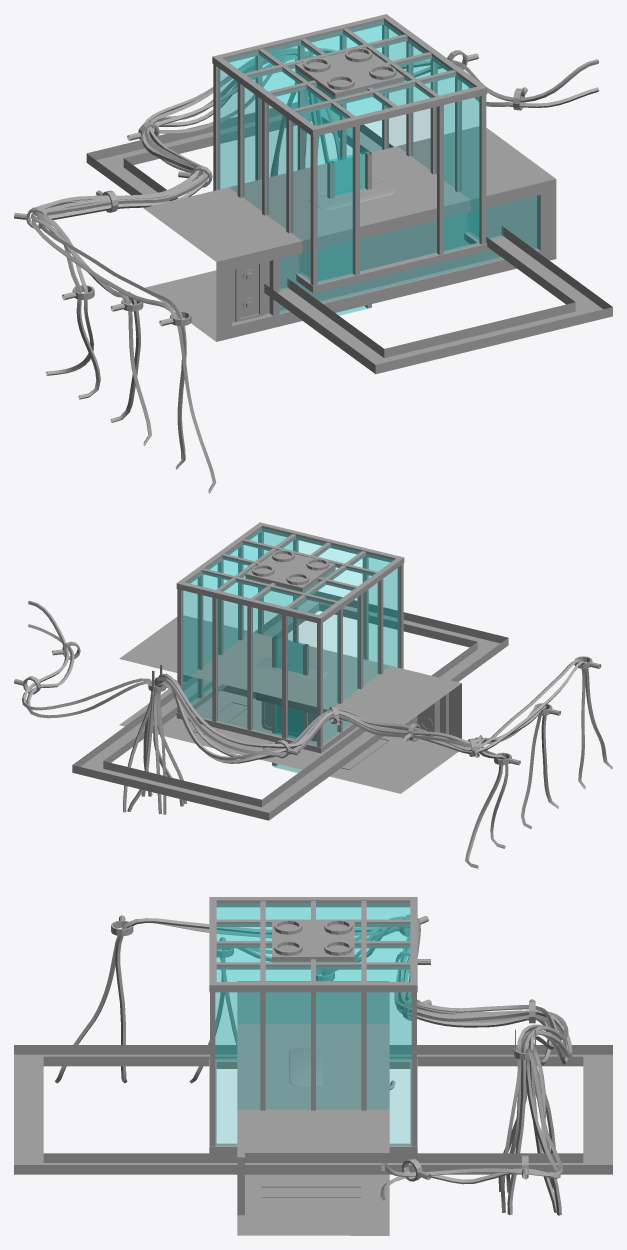
File: Cubiculo.fbx
3 renders of one model, top to bottom at view 1: azimuth 30°, elevation 25°; view 2: azimuth 150°, elevation 25°; view 3: azimuth 270°, elevation 25°, orthographic. The views are drawn at different scales.
Visible parts, largest first — view 1: Cubiculo, ServidorSup, Cables, Luz, CubiculoPuertaDere, BaseTerminal; view 2: Cubiculo, ServidorSup, Cables, Luz, CubiculoPuertaIzq, BaseTerminal, CubiculoPuertaDere, PantallaTerminal; view 3: Cubiculo, ServidorSup, Luz, Cables, BaseTerminal.
Boxes of the visible parts, left/top/right/bottom form: Cubiculo: left=212, top=14, right=487, bottom=292; ServidorSup: left=143, top=126, right=556, bottom=341; Cables: left=14, top=47, right=598, bottom=493; Luz: left=86, top=99, right=612, bottom=374; CubiculoPuertaDere: left=327, top=150, right=369, bottom=315; BaseTerminal: left=308, top=181, right=395, bottom=209; Cubiculo: left=176, top=522, right=404, bottom=753; ServidorSup: left=119, top=615, right=461, bottom=793; Cables: left=14, top=600, right=612, bottom=868; Luz: left=72, top=591, right=508, bottom=820; CubiculoPuertaIzq: left=272, top=636, right=306, bottom=772; BaseTerminal: left=256, top=657, right=327, bottom=714; CubiculoPuertaDere: left=272, top=637, right=308, bottom=772; PantallaTerminal: left=261, top=701, right=316, bottom=741; Cubiculo: left=209, top=897, right=417, bottom=1153; ServidorSup: left=237, top=981, right=389, bottom=1235; Luz: left=14, top=1045, right=612, bottom=1174; Cables: left=55, top=914, right=572, bottom=1215; BaseTerminal: left=289, top=1047, right=321, bottom=1085.
Bounding box in the file's own units: 1339 × 619 × 1188.
